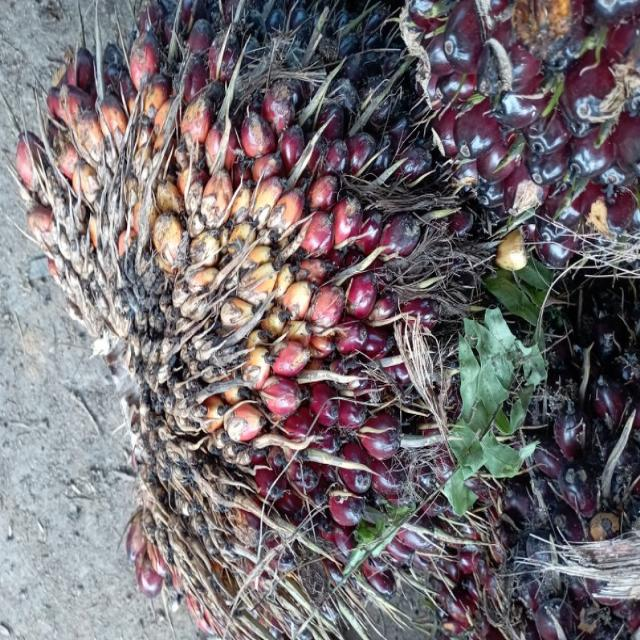fraksi 1: (18, 5, 472, 640)
